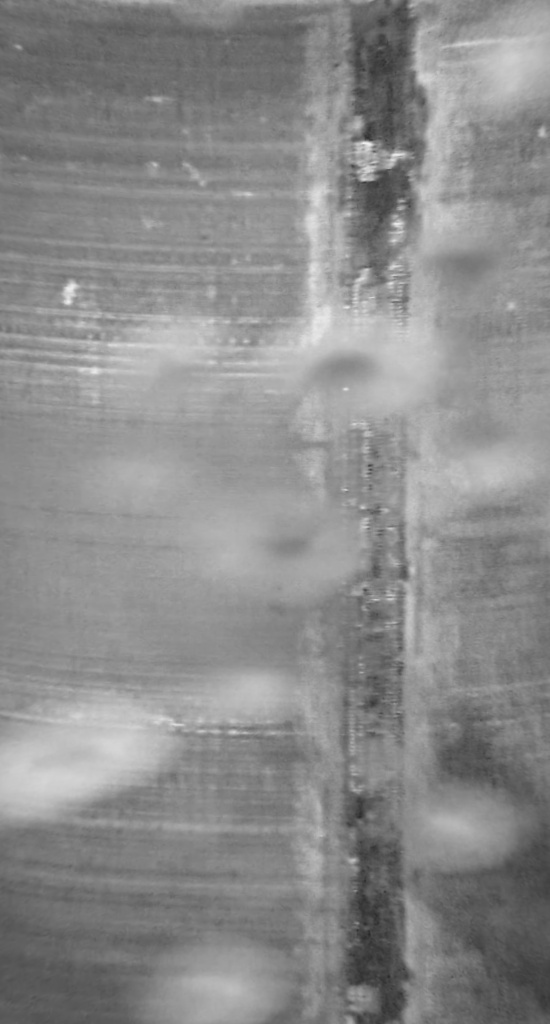splice: (325, 1, 428, 1024)
